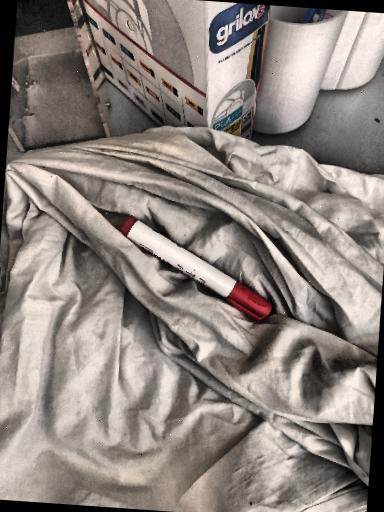marcador rojo: (120, 215, 272, 320)
